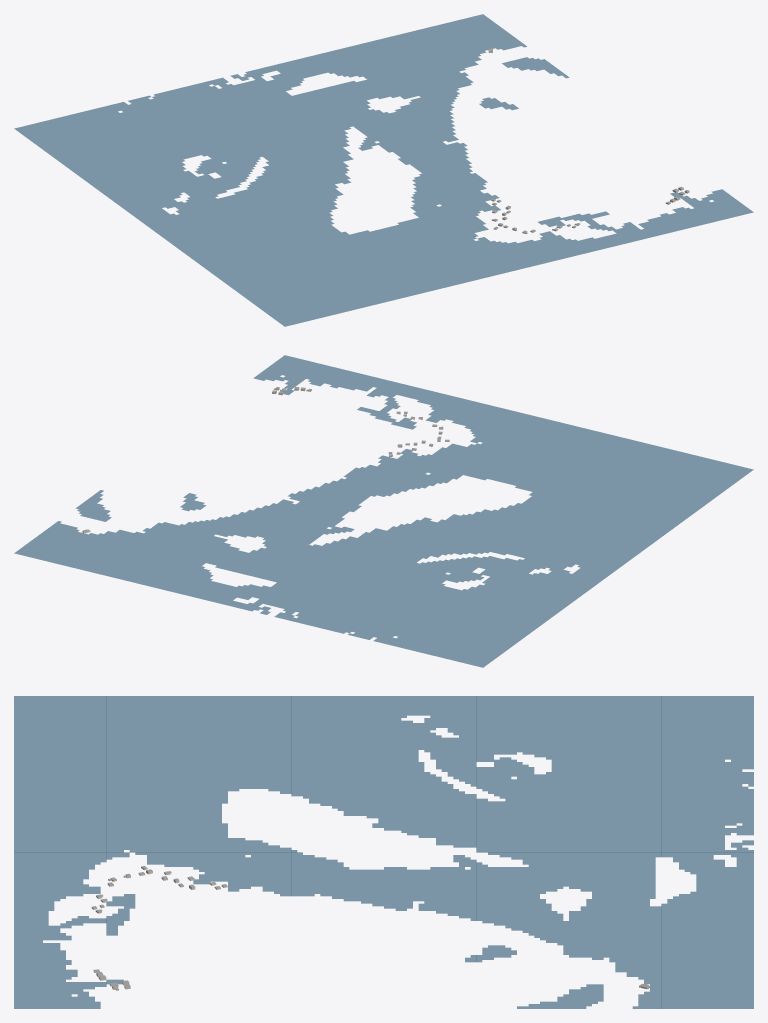
File: chunk_4_8.glb
3 views of the same model, one above another, from view 1: azimuth 30°, elevation 25°; view 2: azimuth 150°, elevation 25°; view 3: azimuth 270°, elevation 25° (orthographic). The views are drawn at different scales.
Parts seen in each view (by area): view 1: Water_4_8; view 2: Water_4_8; view 3: Water_4_8, Filler_4_8.
Part boxes in pixels (x1=…): Water_4_8: x1=14, y1=14, x2=753, y2=326; Water_4_8: x1=14, y1=355, x2=753, y2=667; Water_4_8: x1=14, y1=696, x2=753, y2=1008; Filler_4_8: x1=91, y1=866, x2=227, y2=990.
Size of the model in its own units: 2048 by 7.9 by 2048.
